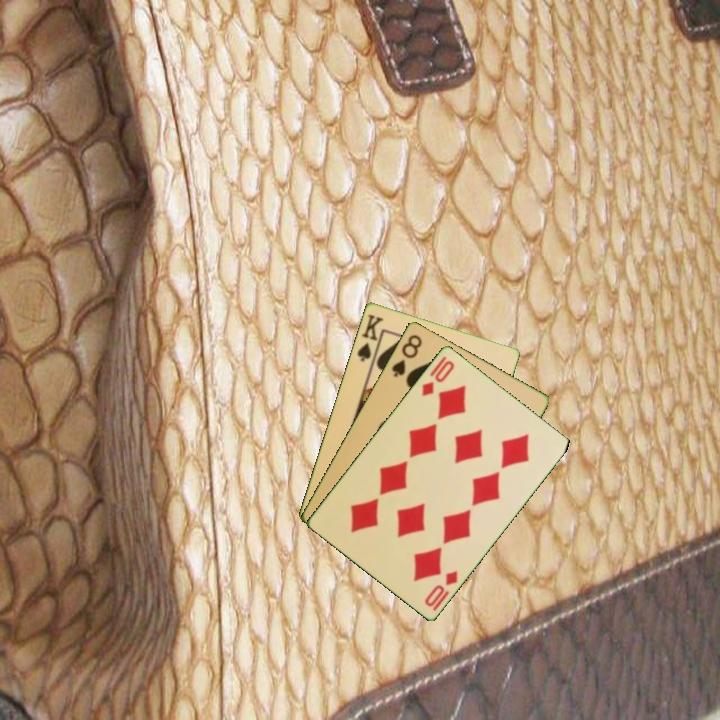10d: (421, 566, 461, 613), (418, 356, 457, 399)
8s: (388, 331, 425, 380)
Ks: (353, 310, 386, 366)
